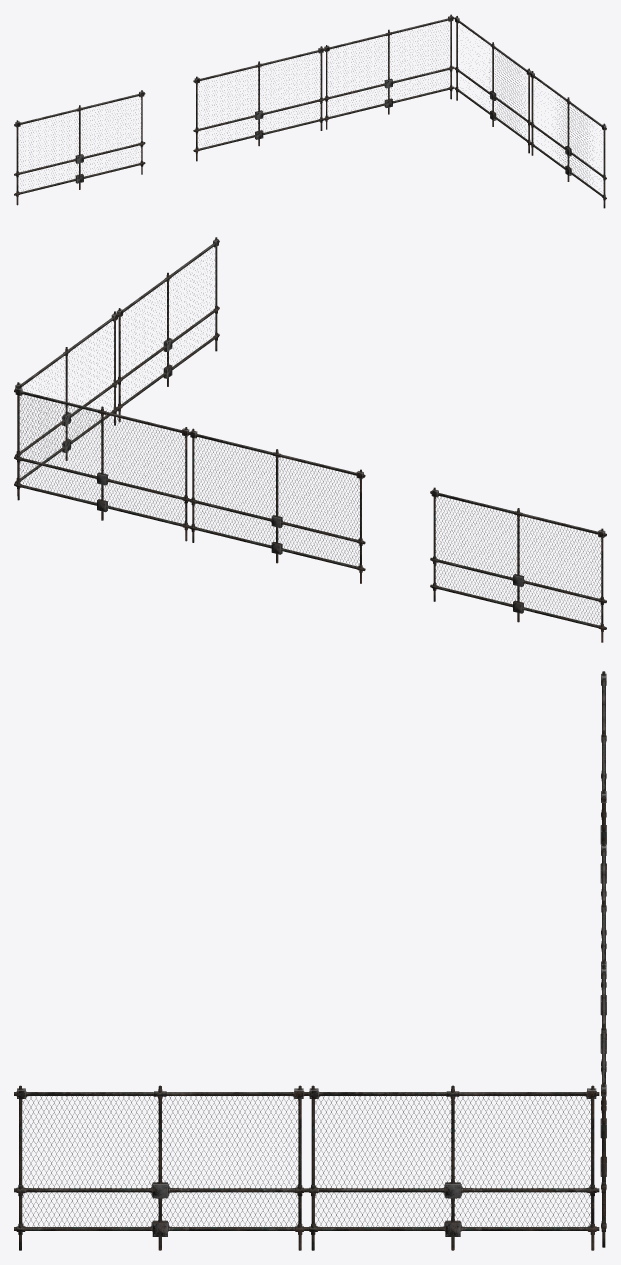
Rendered from fence_-_11mb.glb.
The picture shows the model from 3 angles, top to bottom: view 1: azimuth 30°, elevation 25°; view 2: azimuth 150°, elevation 25°; view 3: azimuth 270°, elevation 25°; orthographic projection. The views are drawn at different scales.
Visible parts, largest first — view 1: Fance_4, Fance, Fance_1, Fance_3, Fance_2; view 2: Fance_1, Fance_4, Fance, Fance_3, Fance_2; view 3: Fance_2, Fance_3, Fance_1, Fance_4.
Part boxes in pixels (x1,y1,x2,y2): Fance_4: (14, 90, 145, 205); Fance: (193, 46, 324, 161); Fance_1: (324, 14, 454, 129); Fance_3: (530, 71, 606, 208); Fance_2: (454, 16, 531, 153); Fance_1: (14, 386, 189, 541); Fance_4: (430, 487, 606, 642); Fance: (189, 428, 365, 583); Fance_3: (116, 237, 219, 422); Fance_2: (15, 311, 118, 495); Fance_2: (306, 1085, 599, 1250); Fance_3: (14, 1085, 306, 1250); Fance_1: (600, 964, 606, 1247); Fance_4: (600, 671, 606, 937).
Bounding box in the file's own units: 19.19 × 3.5 × 11.49.
Materials: 1 (1 with a texture image).
